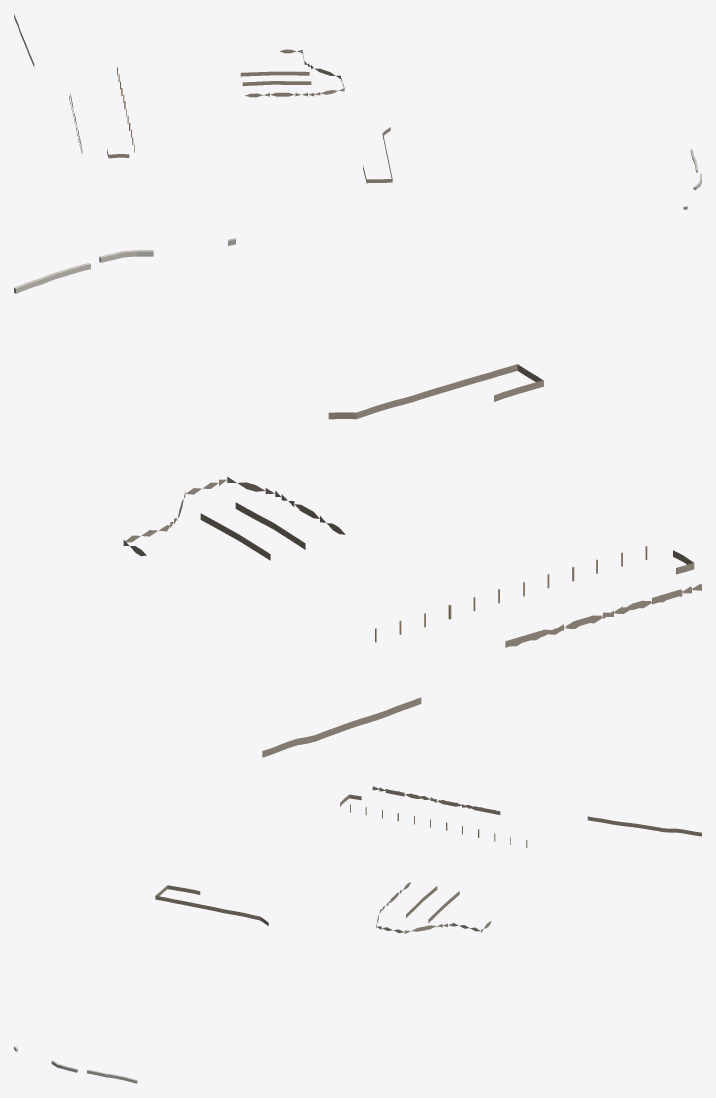
The model's file is paysage.glb.
3 renders of one model, top to bottom at view 1: azimuth 30°, elevation 25°; view 2: azimuth 150°, elevation 25°; view 3: azimuth 270°, elevation 25°, orthographic. The views are drawn at different scales.
Visible parts, largest first — view 1: SITE_cloture_4, SITE_cloture_6; view 2: SITE_cloture_3, SITE_cloture_1, SITE_cloture_2, SITE_cloture_4; view 3: SITE_cloture_3, SITE_cloture_2, SITE_cloture_1, SITE_cloture_4.
Part boxes in pixels (x1,y1,x2,y2): SITE_cloture_4: [245, 49, 344, 97]; SITE_cloture_6: [240, 71, 309, 76]; SITE_cloture_3: [328, 364, 543, 419]; SITE_cloture_1: [505, 583, 701, 647]; SITE_cloture_2: [262, 697, 421, 757]; SITE_cloture_4: [123, 476, 345, 556]; SITE_cloture_3: [155, 885, 268, 925]; SITE_cloture_2: [587, 816, 701, 836]; SITE_cloture_1: [372, 786, 500, 814]; SITE_cloture_4: [376, 882, 491, 933].
Size of the model in its own units: 171 by 14.58 by 195.
